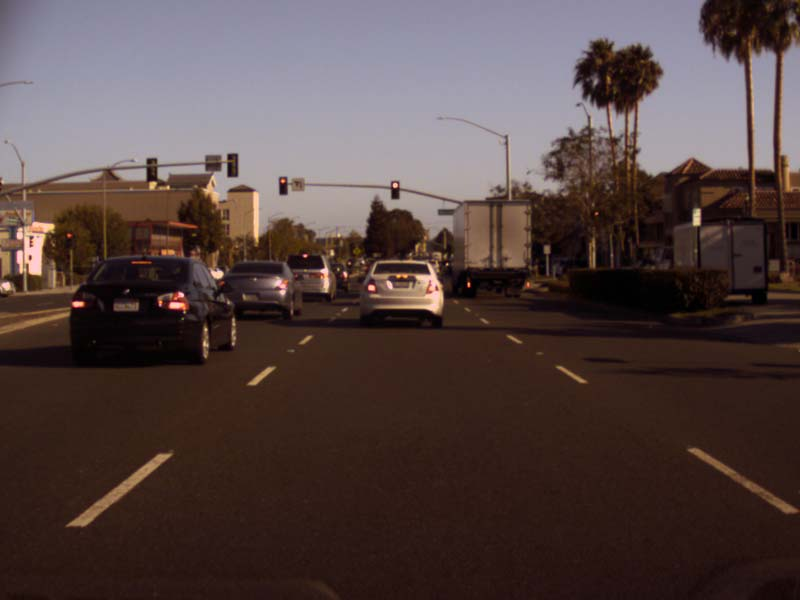Red: (64, 231, 74, 248), (391, 179, 399, 199), (279, 176, 287, 195)
